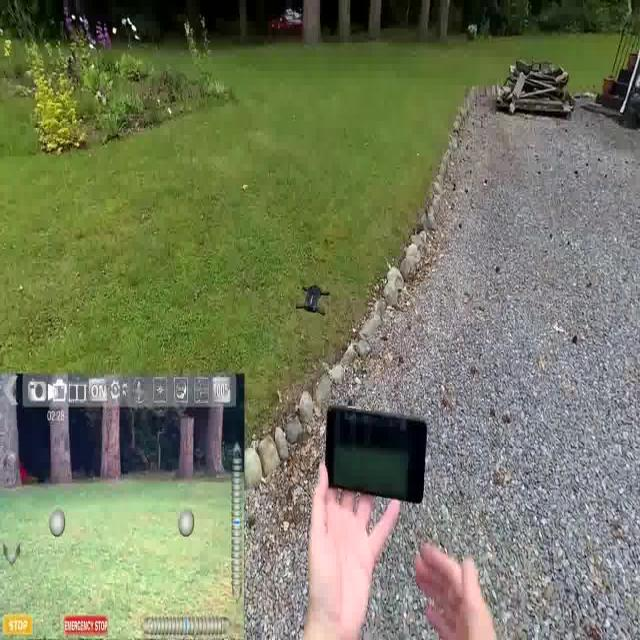drone: (296, 282, 330, 320)
